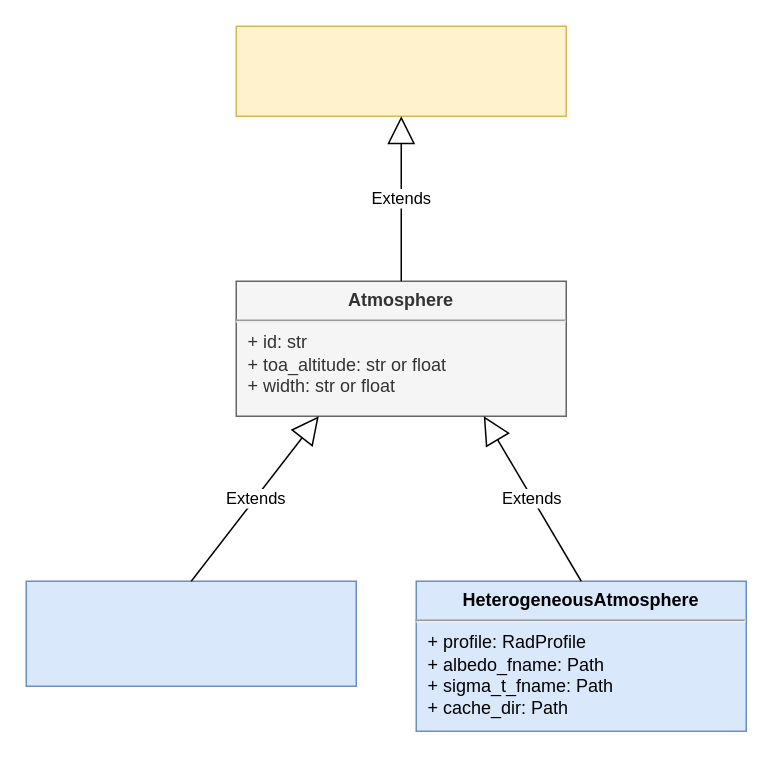
Image size: 773x758. Some labels were removed from this diagram. Each missing label, with the box of its shape:
HomogeneousAtmosphere + sigma_s: str or Spectrum + sigma_a: Spectrum: (25, 580, 356, 686)
SceneElement + id: str: (235, 25, 566, 116)
